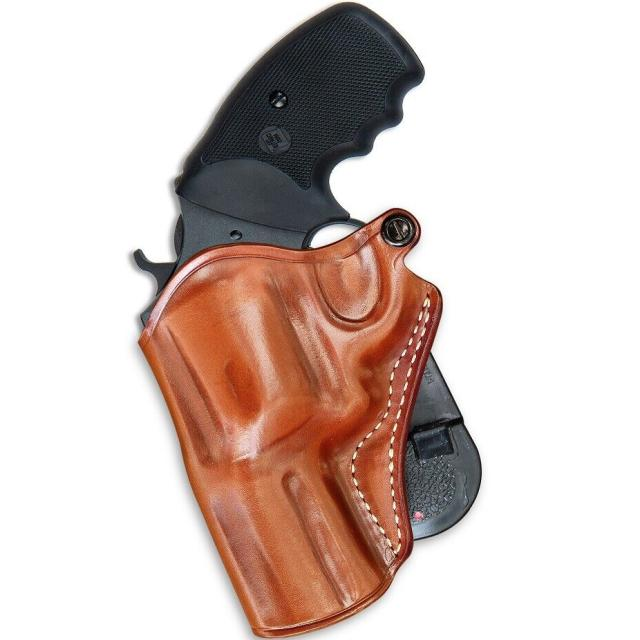Gun: (118, 9, 512, 623)
